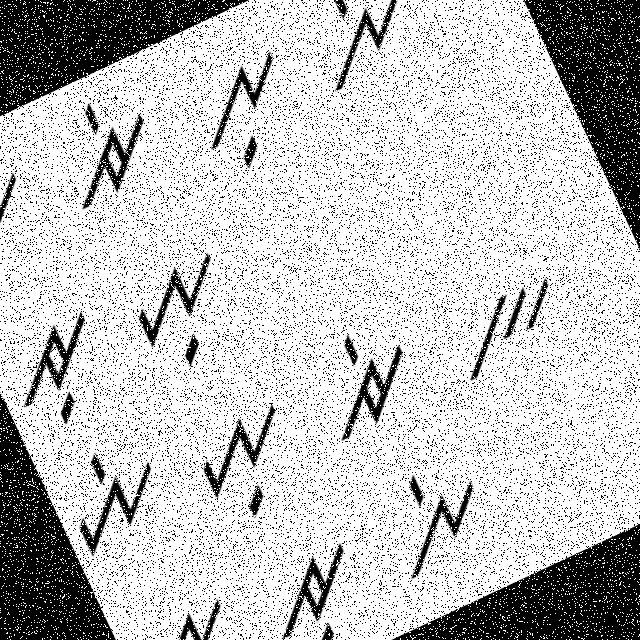le: (364, 446, 509, 587), (286, 0, 429, 99)
lu: (169, 34, 316, 188), (119, 578, 265, 639)
re: (286, 309, 438, 462), (38, 80, 174, 218)
ru: (0, 303, 130, 444), (249, 529, 390, 639)
ye: (49, 431, 182, 564), (0, 137, 50, 279)
yu: (172, 386, 321, 540), (116, 246, 260, 382)
